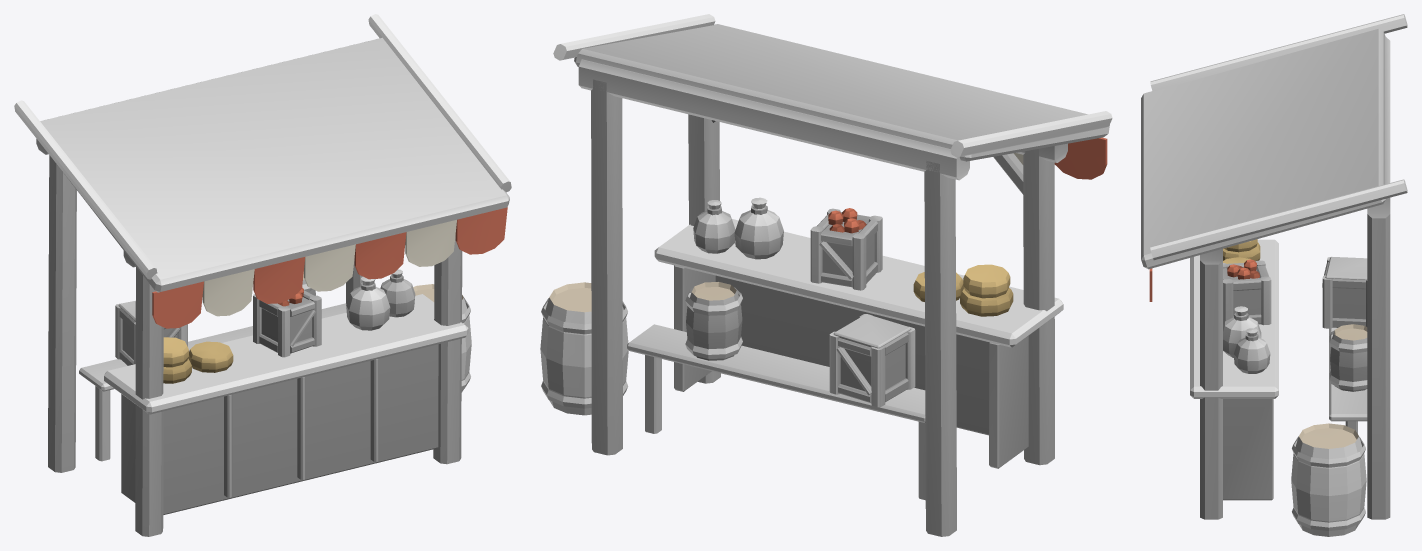
Rendered from market_stall.glb.
3 views of the same model, side by side, from view 1: azimuth 30°, elevation 25°; view 2: azimuth 150°, elevation 25°; view 3: azimuth 270°, elevation 25° (orthographic). The views are drawn at different scales.
Visible parts, largest first — view 1: apple; view 2: apple; view 3: apple.
Boxes of the visible parts, x1,y1,x2,y2 form: apple: (14,14,511,536); apple: (540,14,1112,536); apple: (1141,14,1407,536).
Bounding box in the file's own units: 3.38 × 2.85 × 1.98.
